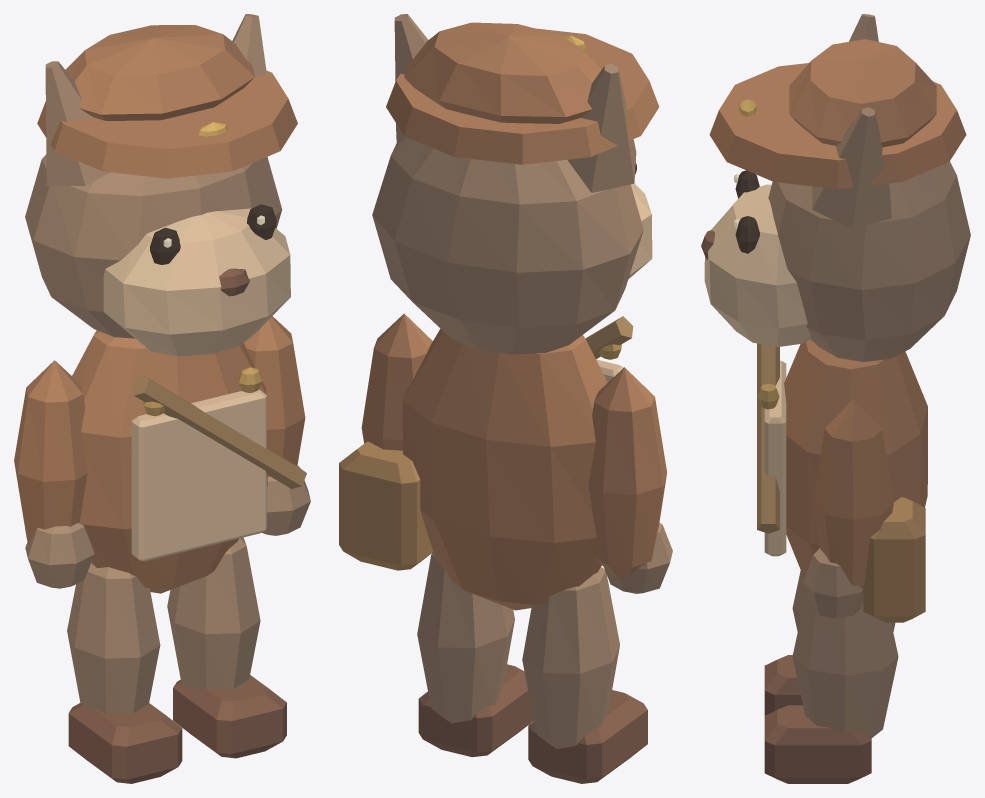
File: npc_juna.glb
3 views of the same model, side by side, from view 1: azimuth 30°, elevation 25°; view 2: azimuth 150°, elevation 25°; view 3: azimuth 270°, elevation 25° (orthographic). The views are drawn at different scales.
Visible parts, largest first — view 1: npc_juna, npc_juna_leg_l, npc_juna_leg_r, npc_juna_arm_l, npc_juna_arm_r; view 2: npc_juna, npc_juna_leg_l, npc_juna_leg_r, npc_juna_arm_l, npc_juna_arm_r; view 3: npc_juna, npc_juna_leg_r, npc_juna_arm_r, npc_juna_leg_l.
Boxes of the visible parts, x1,y1,x2,y2 form: npc_juna: (25,14,306,593); npc_juna_leg_l: (67,563,182,783); npc_juna_leg_r: (167,537,286,758); npc_juna_arm_l: (14,360,94,588); npc_juna_arm_r: (244,316,310,535); npc_juna: (339,14,659,610); npc_juna_leg_l: (522,567,647,783); npc_juna_leg_r: (417,552,533,757); npc_juna_arm_l: (588,367,672,593); npc_juna_arm_r: (361,313,432,450); npc_juna: (701,14,970,622); npc_juna_leg_r: (764,590,898,783); npc_juna_arm_r: (803,399,893,618); npc_juna_leg_l: (764,570,895,715).
Size of the model in its own units: 0.646 by 1.52 by 0.5399.
